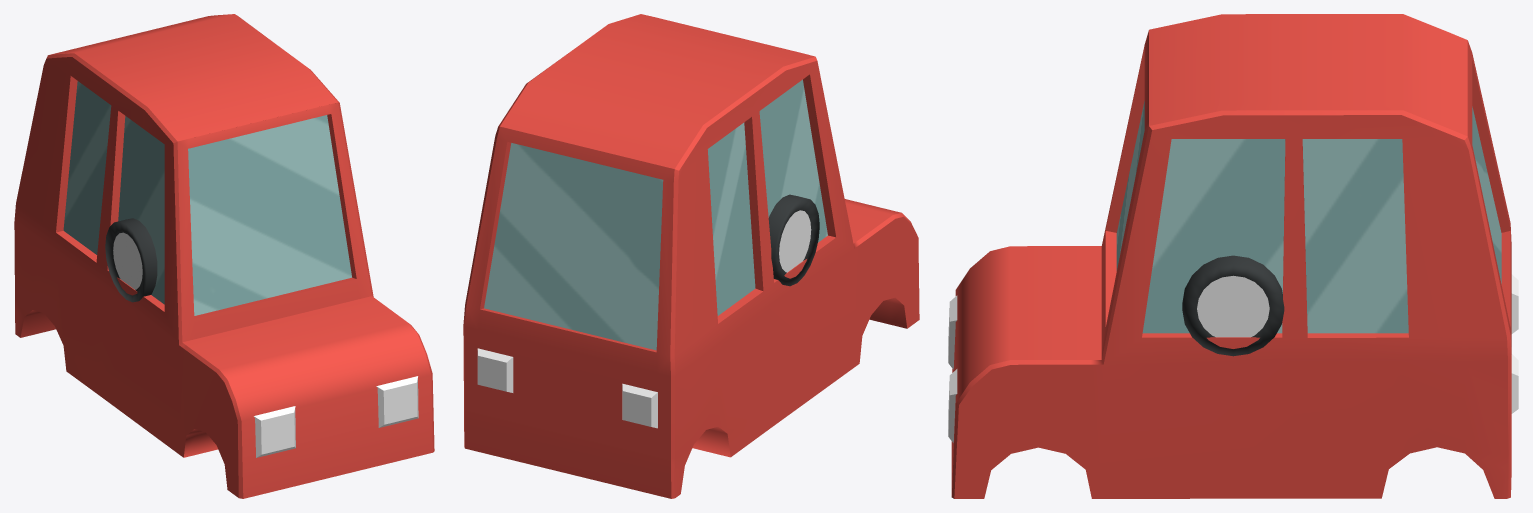
File: car_1_R.fbx
The picture shows the model from 3 angles, left to right: view 1: azimuth 30°, elevation 25°; view 2: azimuth 150°, elevation 25°; view 3: azimuth 270°, elevation 25°; orthographic projection. The views are drawn at different scales.
Parts seen in each view (by area): view 1: car_1_chasis_R, car_1_right_wheel_R, car_1_back_wheel_R; view 2: car_1_chasis_R, car_1_right_wheel_R, car_1_back_wheel_R; view 3: car_1_chasis_R, car_1_back_wheel_R.
Boxes of the visible parts, left/top/right/bottom form: car_1_chasis_R: left=14, top=14, right=434, bottom=498; car_1_right_wheel_R: left=105, top=219, right=157, bottom=302; car_1_back_wheel_R: left=117, top=218, right=156, bottom=301; car_1_chasis_R: left=463, top=14, right=919, bottom=498; car_1_right_wheel_R: left=769, top=194, right=819, bottom=286; car_1_back_wheel_R: left=768, top=195, right=797, bottom=276; car_1_chasis_R: left=948, top=14, right=1518, bottom=498; car_1_back_wheel_R: left=1182, top=255, right=1284, bottom=356.
Bounding box in the file's own units: 76.29 × 115 × 157.
